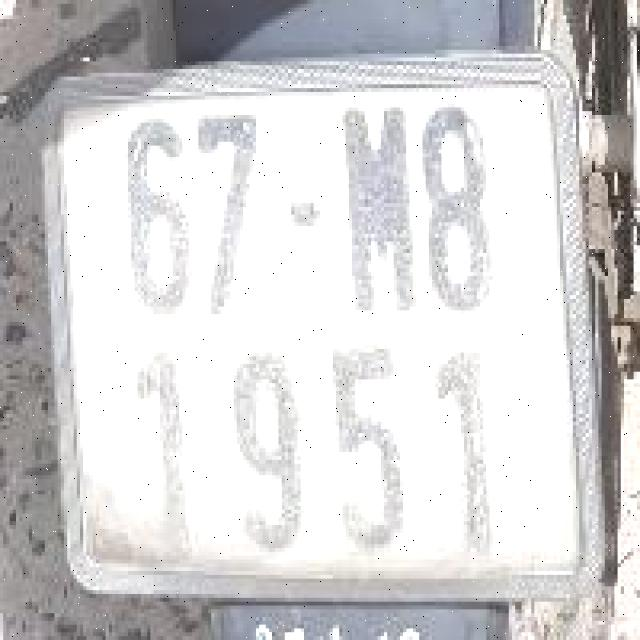1: (430, 331, 510, 550), (133, 339, 190, 581)
5: (320, 341, 416, 563)
6: (122, 107, 195, 318)
7: (193, 105, 270, 320)
8: (419, 100, 506, 314)
9: (222, 343, 309, 561)
M: (334, 100, 418, 310)
